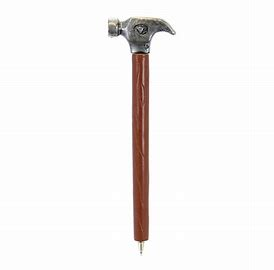martillu: (109, 17, 171, 257)
